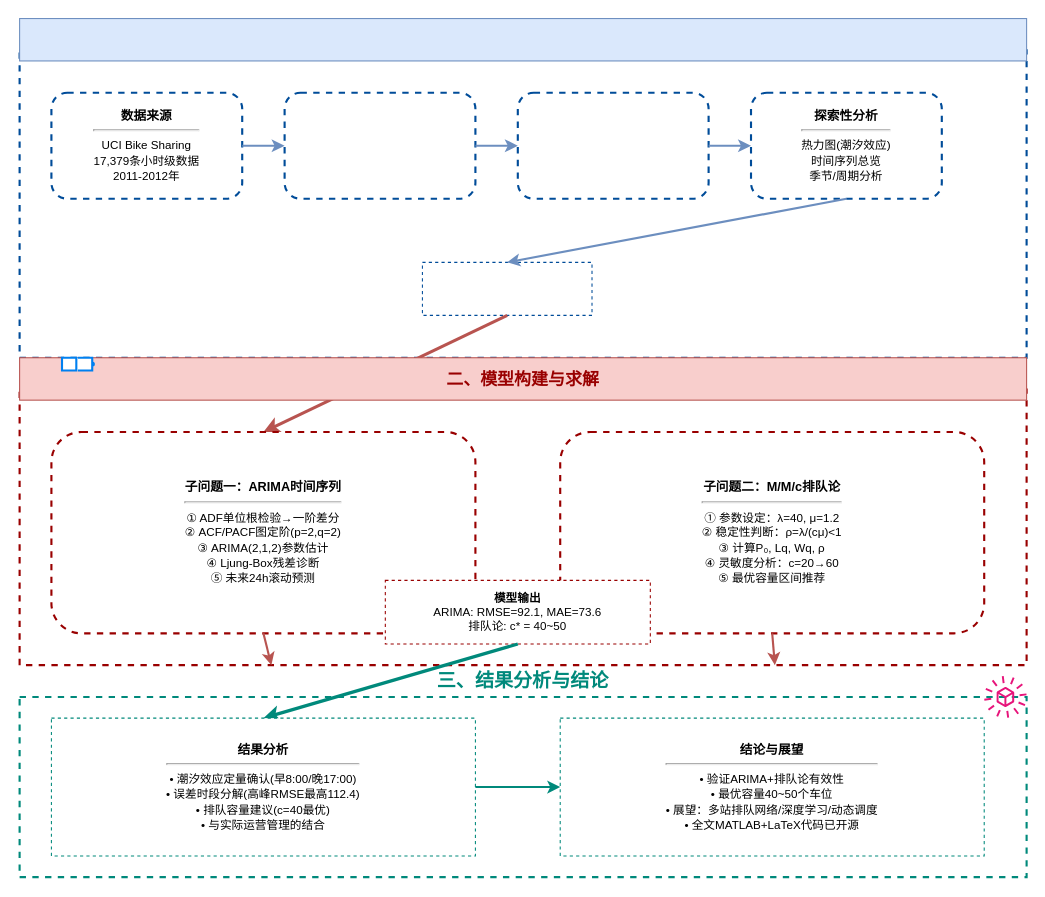
Image size: 1045x897. Some labels were removed from this diagram. Here are the shapes that lost their labels. From the top down, the centre of each, then its label:
point 523,39: 一、数据获取与预处理分析
point 379,145: 数据清洗 readtable加载 异常检测 缺失值处理
point 612,145: 特征工程 高峰时段标记 工作日/周末分类 datetime构建
point 506,288: 处理后数据 含高峰标记+特征列
